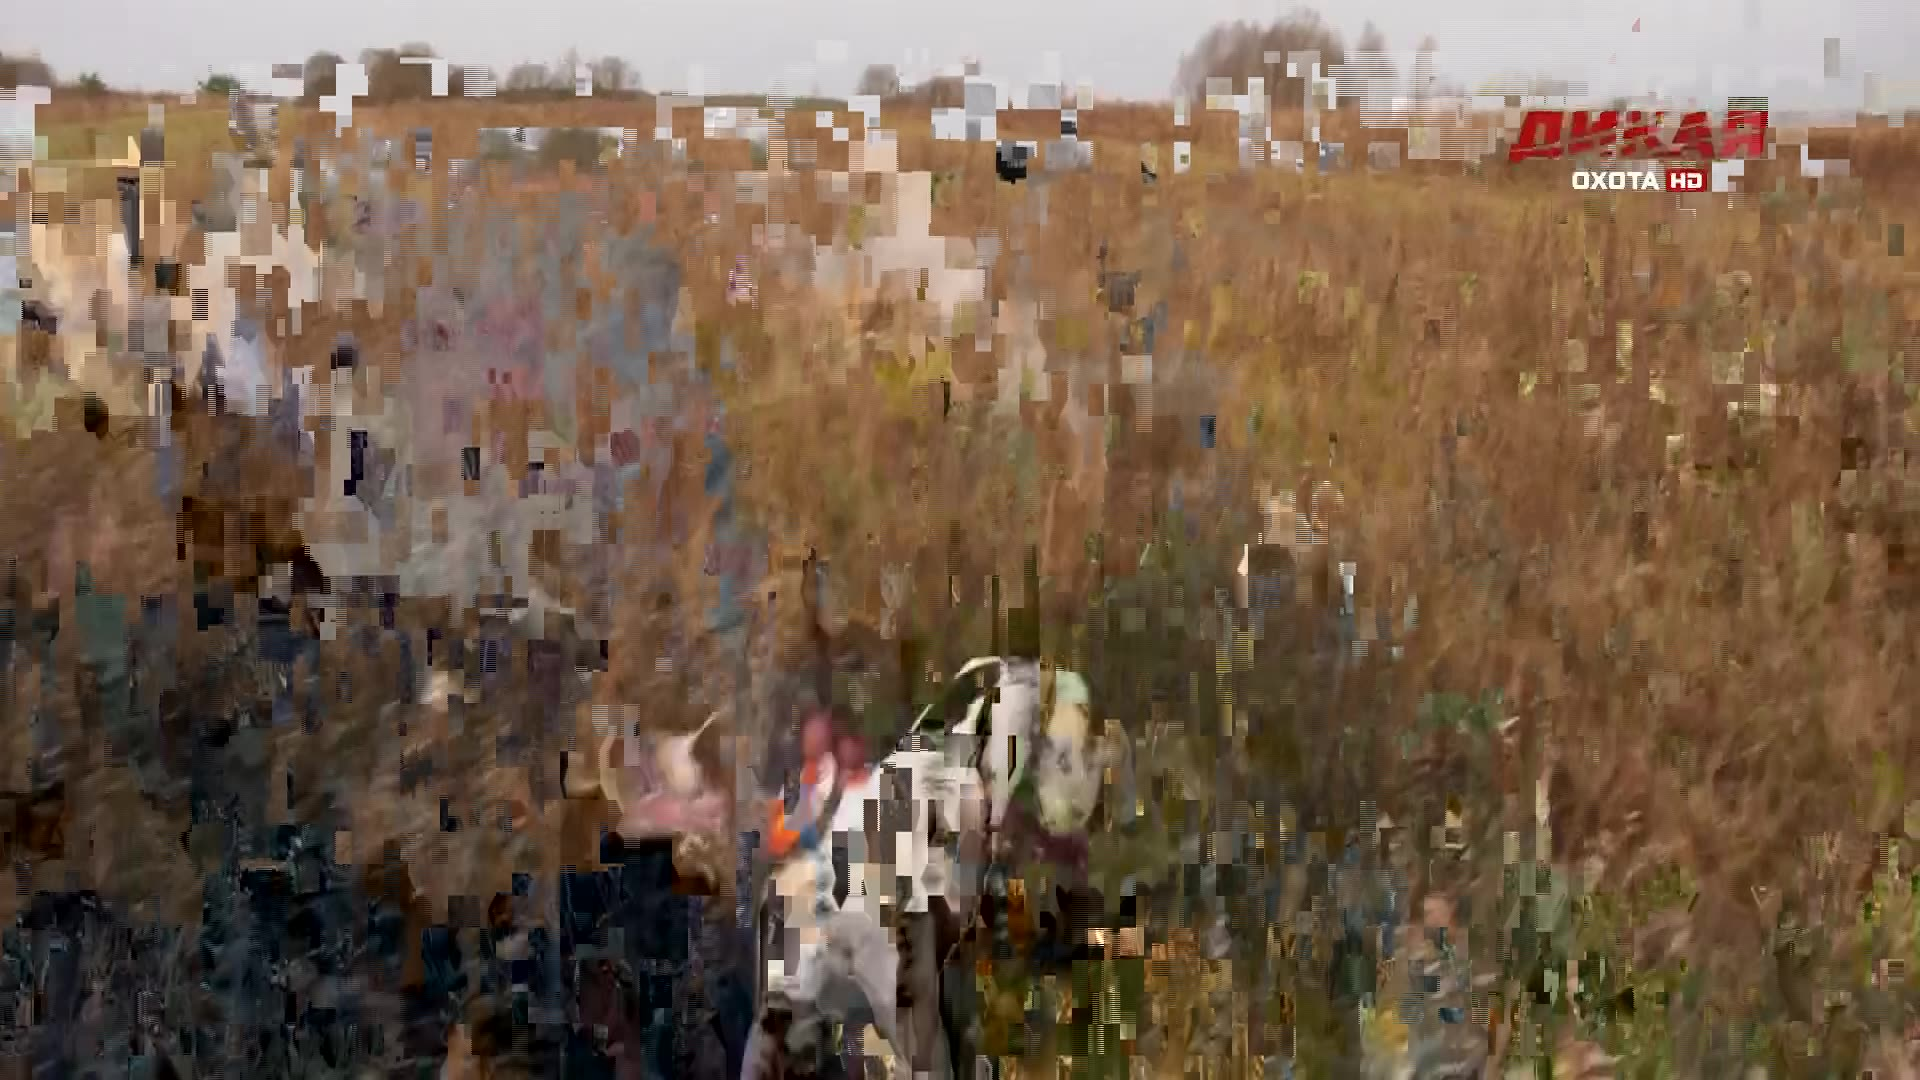Dikaya_Ohota_HD: (1502, 104, 1774, 195)
